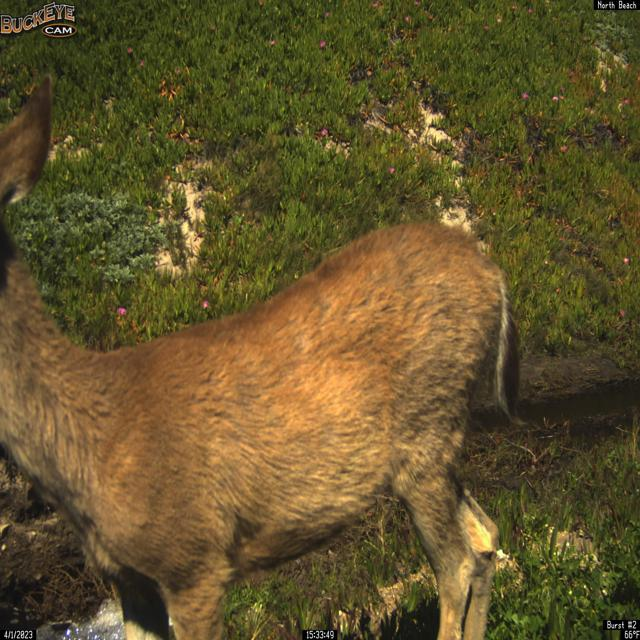deer: (0, 68, 529, 640)
